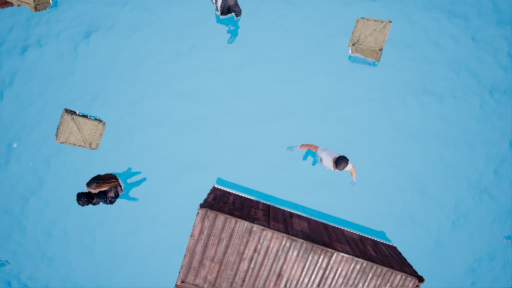person: (68, 166, 149, 212), (296, 138, 356, 191)
